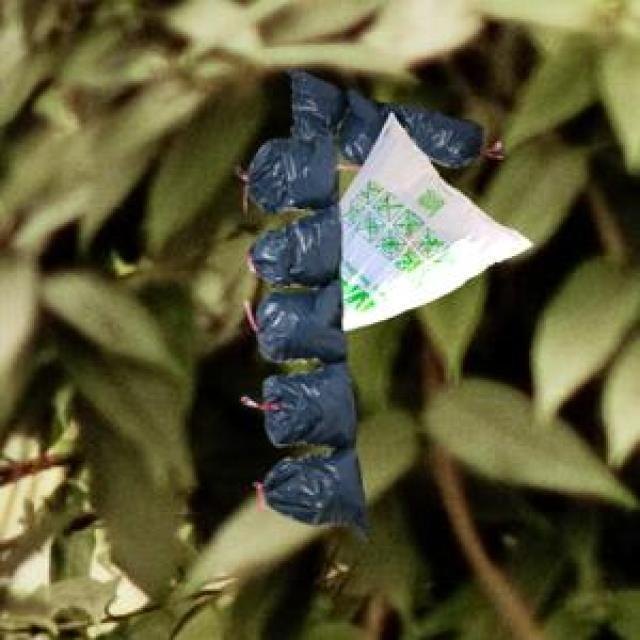miscellaneous trash: (239, 124, 363, 536), (285, 66, 480, 164)
